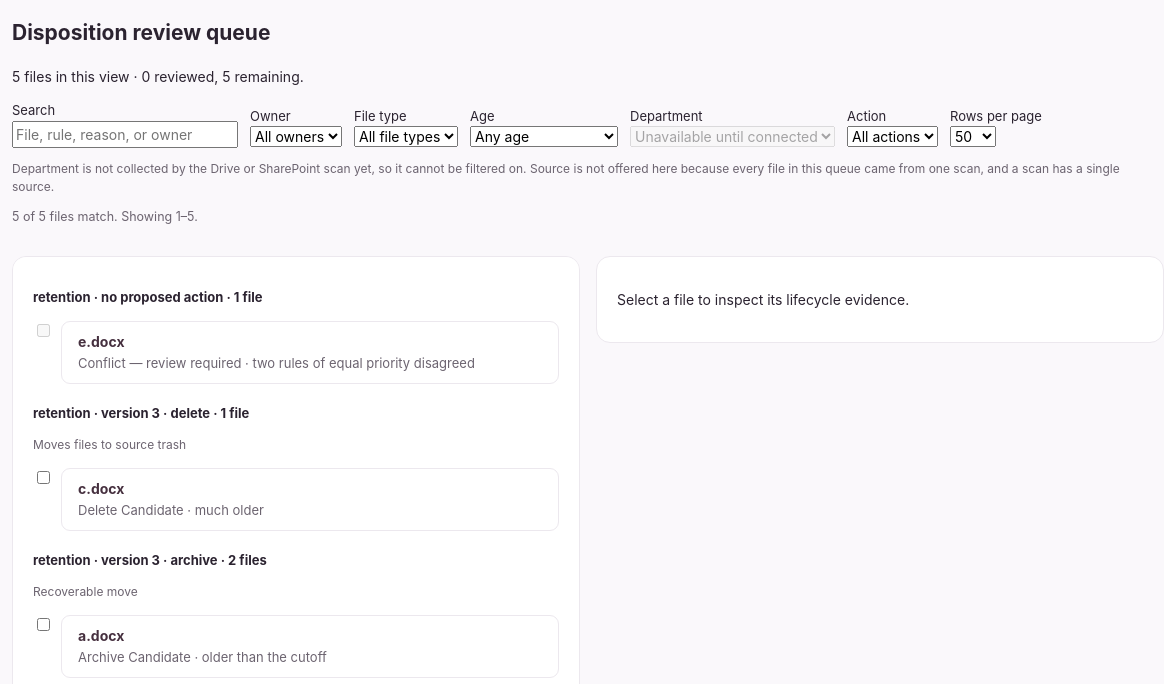
Scenario: the approve panel states what recovery would mean › admits an archive cannot be moved back
Click the checkbox named "Select a.docx for batch approval".
click(44, 625)  # box [37,618,50,631]
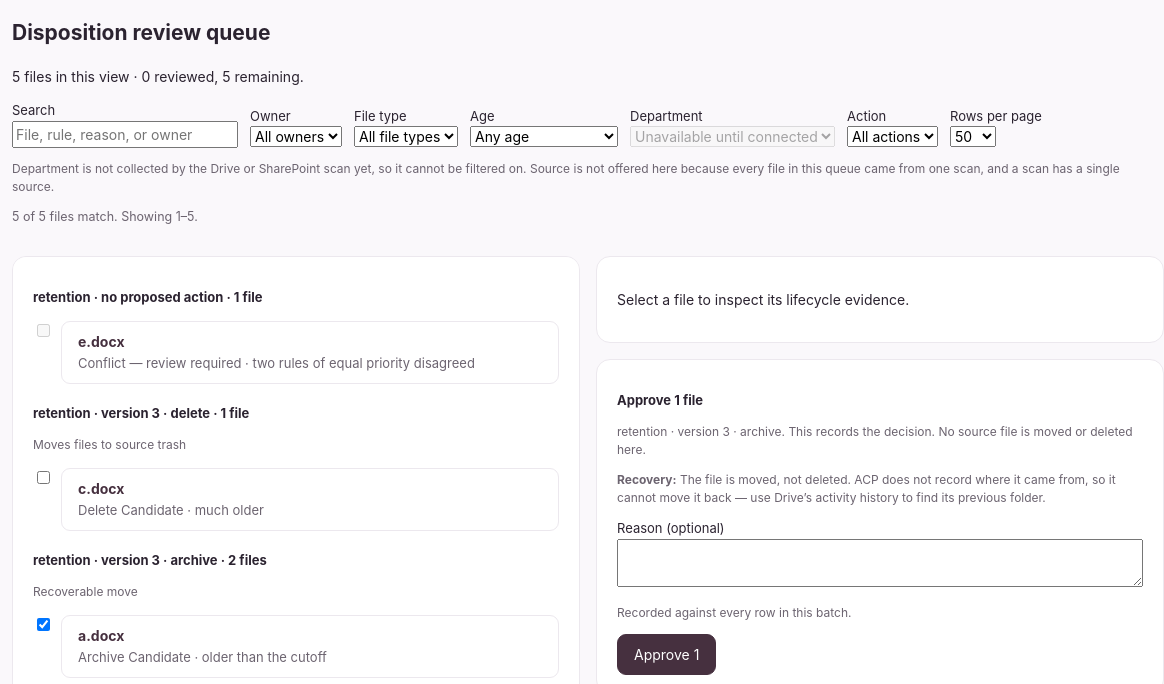
Expected: the text "does not record where it came from" is shown, [617,472,1116,505]
